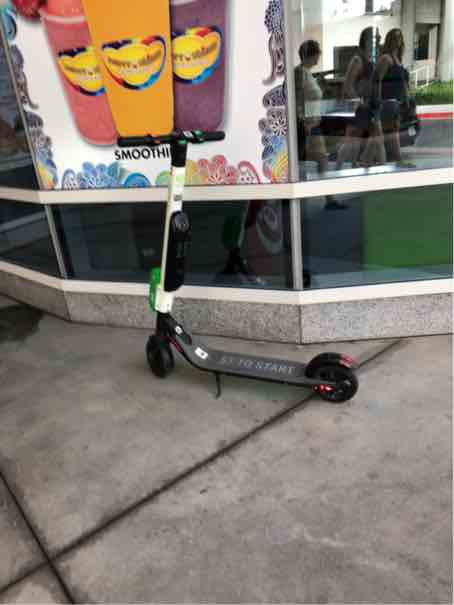scooter: (113, 116, 366, 404)
